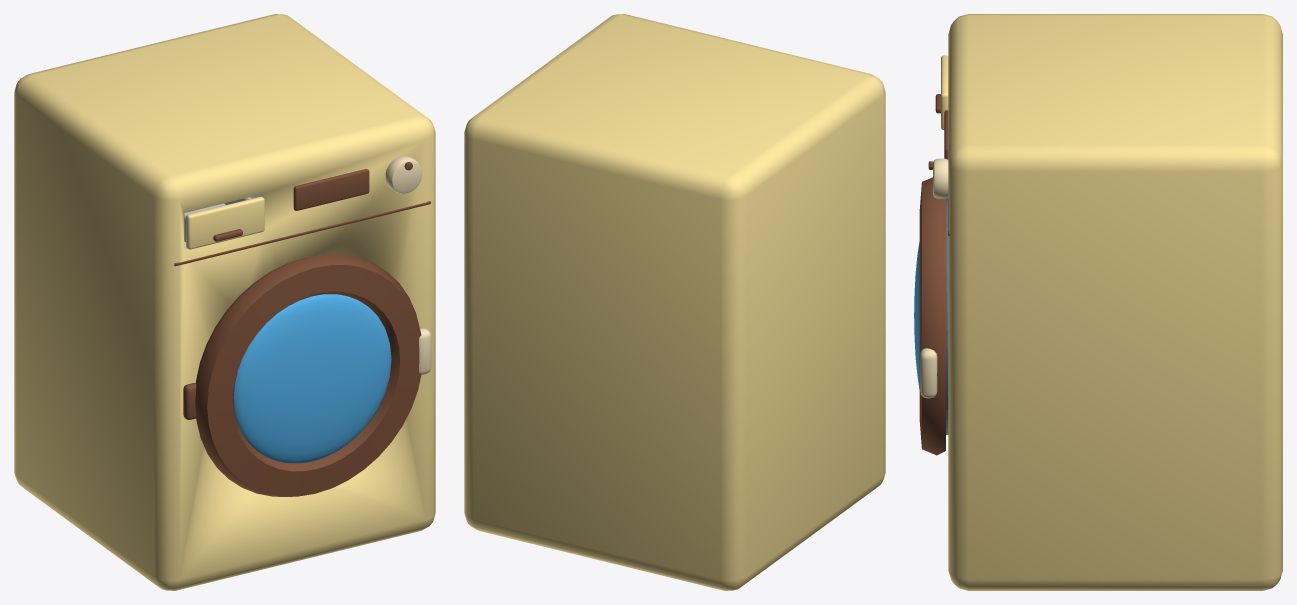
Rendered from maquina_lavar_pastel_amarela.glb.
3 views of the same model, side by side, from view 1: azimuth 30°, elevation 25°; view 2: azimuth 150°, elevation 25°; view 3: azimuth 270°, elevation 25° (orthographic). The views are drawn at different scales.
Parts seen in each view (by area): view 1: maquina_lavar_pastel_amarela, porta_maquina, gaveta_1; view 2: maquina_lavar_pastel_amarela; view 3: maquina_lavar_pastel_amarela, porta_maquina, gaveta_1.
Part boxes in pixels (x1,y1,x2,y2): maquina_lavar_pastel_amarela: (14,14,435,590); porta_maquina: (195,254,431,496); gaveta_1: (184,196,264,249); maquina_lavar_pastel_amarela: (464,14,885,590); maquina_lavar_pastel_amarela: (928,14,1282,590); porta_maquina: (914,177,945,455); gaveta_1: (935,55,948,129).
Bounding box in the file's own units: 0.6 × 0.85 × 0.6395.
1 material, 1 textured.
